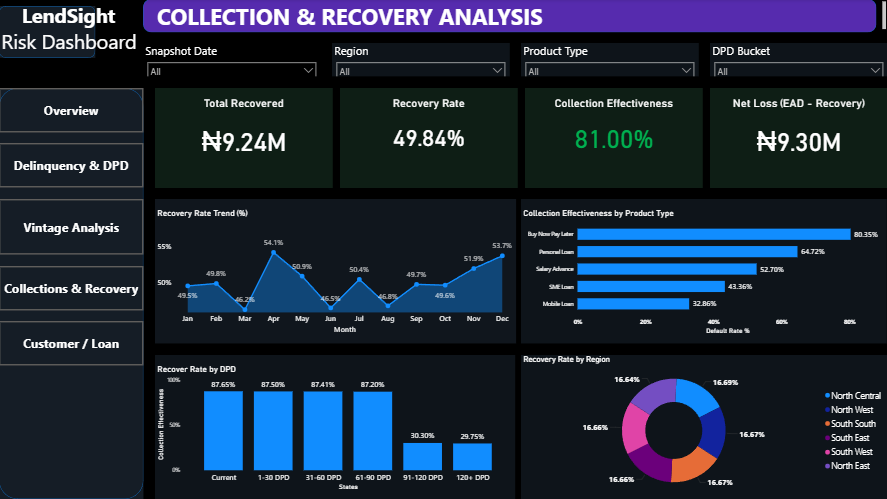

What the dashboard file says about the page in this screenshot:
{"tool":"powerbi","page":{"name":"Collection & Recovery","canvas":[1920,1080],"ordinal":2},"visuals":[{"type":"pageNavigator","box":[0,192,208,64],"z":0},{"type":"areaChart","title":"Recovery Rate Trend (%)","fields":{"Category":["Calender.Month_name"],"Y":["cr_measures.Recovery Rate"]},"box":[336,432,780,312],"z":1000},{"type":"columnChart","title":"Recover Rate by DPD","fields":{"Y":["cr_measures.Collection Effectiveness"],"Category":["credit_risk.DPD Bucket"]},"box":[336,768,778,312],"z":2000},{"type":"donutChart","title":"Recovery Rate by Region","fields":{"Category":["credit_risk.region"],"Y":["cr_measures.Collection Effectiveness"]},"box":[1128,768,792,312],"z":3000},{"type":"barChart","title":"Collection Effectiveness by Product Type","fields":{"Category":["credit_risk.product_type"],"Y":["cr_measures.Recovery Rate"]},"box":[1128,432,790,312],"z":4000},{"type":"shape","box":[0,16,208,112],"z":5000},{"type":"shape","box":[0,192,312,888],"z":6000},{"type":"textbox","box":[0,0,312,168],"z":7000},{"type":"actionButton","box":[0,312,312,96],"z":8000},{"type":"actionButton","box":[0,432,312,120],"z":9000},{"type":"actionButton","box":[0,576,312,96],"z":10000},{"type":"actionButton","box":[0,696,312,96],"z":11000},{"type":"actionButton","box":[0,192,312,96],"z":12000},{"type":"shape","box":[312,0,1584,72],"z":14000},{"type":"slicer","title":"Snapshot Date","fields":{"Values":["Calender.Year"]},"box":[312,96,384,72],"z":15000},{"type":"slicer","title":"Product Type","fields":{"Values":["credit_risk.product_type"]},"box":[1128,96,384,72],"z":16000},{"type":"slicer","title":"DPD Bucket","fields":{"Values":["credit_risk.DPD Bucket"]},"box":[1536,96,384,72],"z":17000},{"type":"slicer","title":"Region","fields":{"Values":["credit_risk.region"]},"box":[720,96,384,72],"z":18000},{"type":"cardVisual","title":"Net Loss (EAD - Recovery)","fields":{"Data":["cr_measures.Net Loss"]},"box":[1536,192,384,216],"z":19000},{"type":"cardVisual","title":"Collection Effectiveness","fields":{"Data":["cr_measures.Collection Effectiveness"]},"box":[1136,192,384,216],"z":20000},{"type":"textbox","box":[336,0,1584,72],"z":21000},{"type":"cardVisual","title":"Total Recovered","fields":{"Data":["cr_measures.Total Recovered"]},"box":[336,192,384,216],"z":22000},{"type":"cardVisual","title":"Recovery Rate","fields":{"Data":["cr_measures.Recovery Rate"]},"box":[736,192,384,216],"z":23000}]}

Visuals, with their boxes in screenshot pixels (x1, y1, x2, y2), scaled from the page's 1920x1080 canvas onto the 887x499 screenshot:
pageNavigator: pyautogui.locateOnScreen(0, 89, 96, 118)
"Recovery Rate Trend (%)" areaChart: pyautogui.locateOnScreen(155, 200, 516, 344)
"Recover Rate by DPD" columnChart: pyautogui.locateOnScreen(155, 355, 515, 498)
"Recovery Rate by Region" donutChart: pyautogui.locateOnScreen(521, 355, 886, 498)
"Collection Effectiveness by Product Type" barChart: pyautogui.locateOnScreen(521, 200, 886, 344)
shape: pyautogui.locateOnScreen(0, 7, 96, 59)
shape: pyautogui.locateOnScreen(0, 89, 144, 498)
textbox: pyautogui.locateOnScreen(0, 0, 144, 78)
actionButton: pyautogui.locateOnScreen(0, 144, 144, 189)
actionButton: pyautogui.locateOnScreen(0, 200, 144, 255)
actionButton: pyautogui.locateOnScreen(0, 266, 144, 310)
actionButton: pyautogui.locateOnScreen(0, 322, 144, 366)
actionButton: pyautogui.locateOnScreen(0, 89, 144, 133)
shape: pyautogui.locateOnScreen(144, 0, 876, 33)
"Snapshot Date" slicer: pyautogui.locateOnScreen(144, 44, 322, 78)
"Product Type" slicer: pyautogui.locateOnScreen(521, 44, 699, 78)
"DPD Bucket" slicer: pyautogui.locateOnScreen(710, 44, 886, 78)
"Region" slicer: pyautogui.locateOnScreen(333, 44, 510, 78)
"Net Loss (EAD - Recovery)" cardVisual: pyautogui.locateOnScreen(710, 89, 886, 189)
"Collection Effectiveness" cardVisual: pyautogui.locateOnScreen(525, 89, 702, 189)
textbox: pyautogui.locateOnScreen(155, 0, 886, 33)
"Total Recovered" cardVisual: pyautogui.locateOnScreen(155, 89, 333, 189)
"Recovery Rate" cardVisual: pyautogui.locateOnScreen(340, 89, 517, 189)
